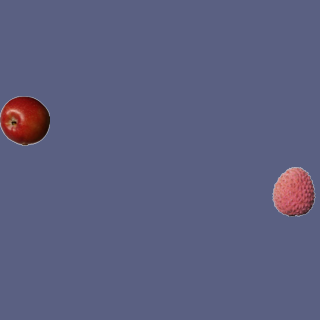Apple Braeburn: (0, 95, 49, 145)
Lychee: (268, 166, 318, 216)
